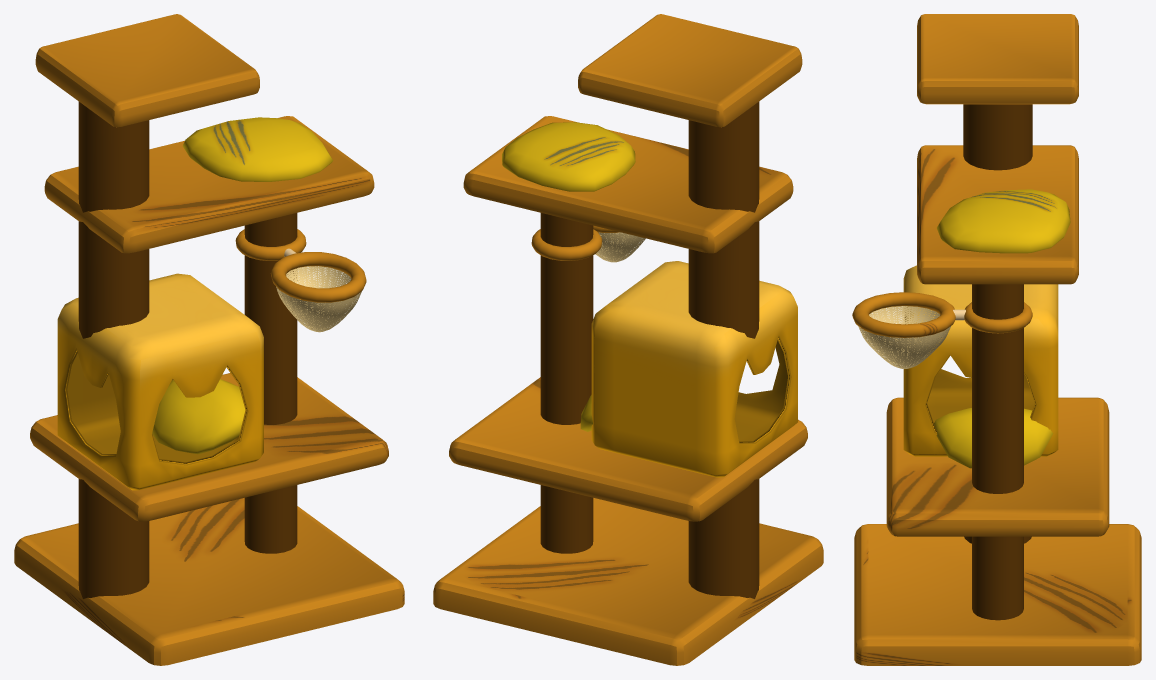
The model's file is CatTower_Right.fbx.
3 renders of one model, left to right at view 1: azimuth 30°, elevation 25°; view 2: azimuth 150°, elevation 25°; view 3: azimuth 270°, elevation 25°, orthographic. The views are drawn at different scales.
Parts seen in each view (by area): view 1: pole_R; view 2: pole_R; view 3: pole_R.
Boxes of the visible parts, x1=… form: pole_R: x1=14, y1=14, x2=404, y2=665; pole_R: x1=433, y1=14, x2=823, y2=665; pole_R: x1=852, y1=14, x2=1141, y2=665.
Bounding box in the file's own units: 853 × 1680 × 831.
Materials: 6 (3 with a texture image).
